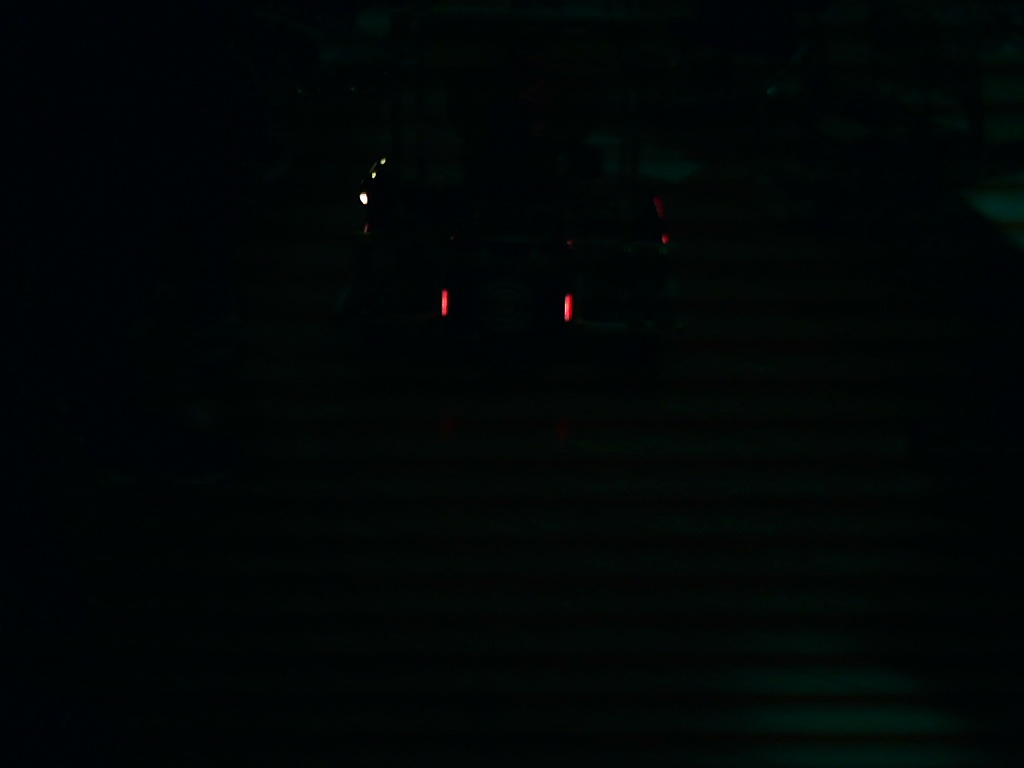lamp: (559, 288, 575, 325), (438, 286, 451, 320)
